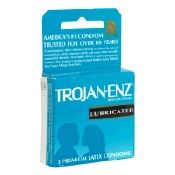grozi_102: (40, 8, 135, 166)
